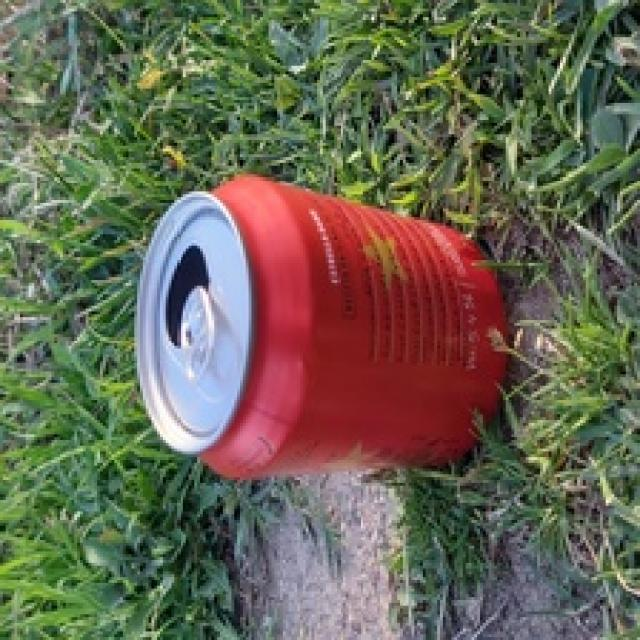recyclable: (130, 169, 512, 479)
